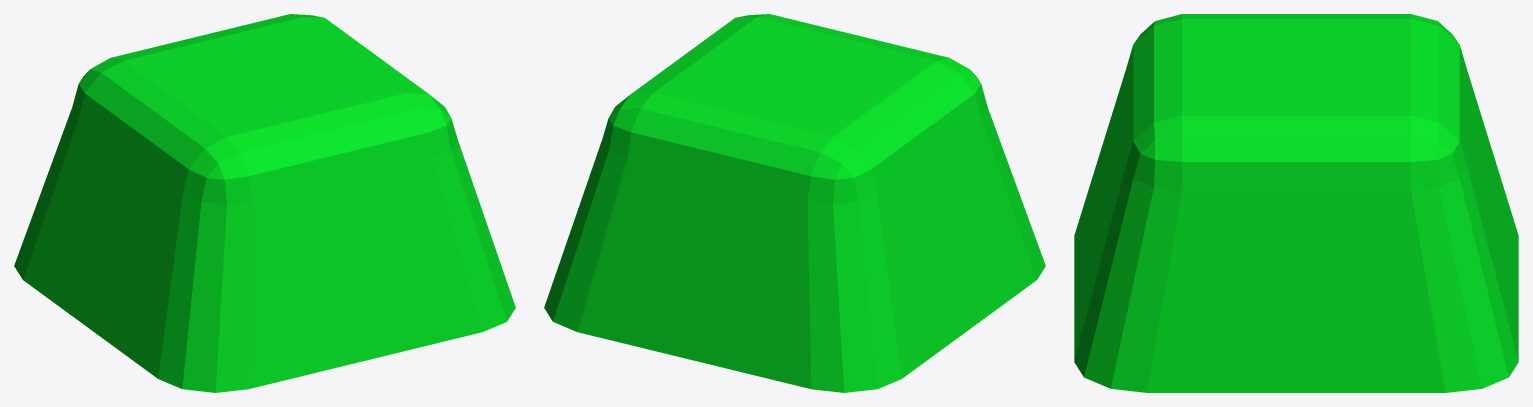
The model's file is greenGem.fbx.
3 renders of one model, left to right at view 1: azimuth 30°, elevation 25°; view 2: azimuth 150°, elevation 25°; view 3: azimuth 270°, elevation 25°, orthographic. The views are drawn at different scales.
Parts seen in each view (by area): view 1: Cube; view 2: Cube; view 3: Cube.
Part boxes in pixels (<box>): Cube: <box>14,14,515,392</box>; Cube: <box>544,14,1045,392</box>; Cube: <box>1074,14,1518,392</box>.
Bounding box in the file's own units: 260 × 150 × 260.
